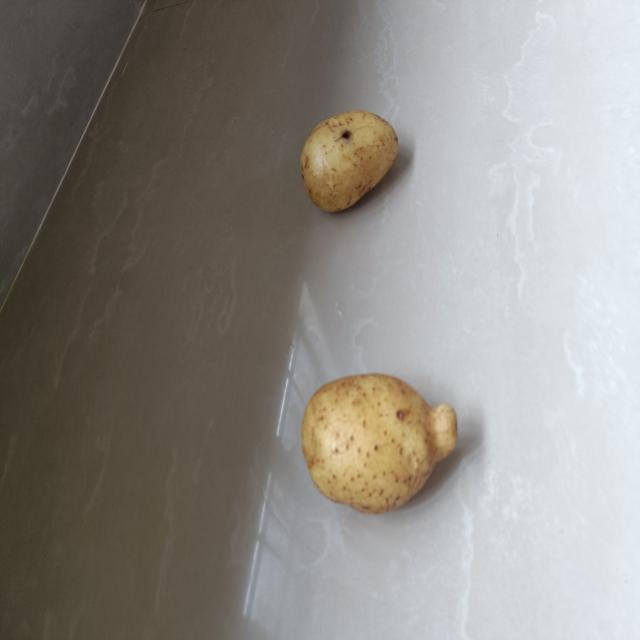potato: (297, 369, 461, 521), (300, 105, 403, 221)
